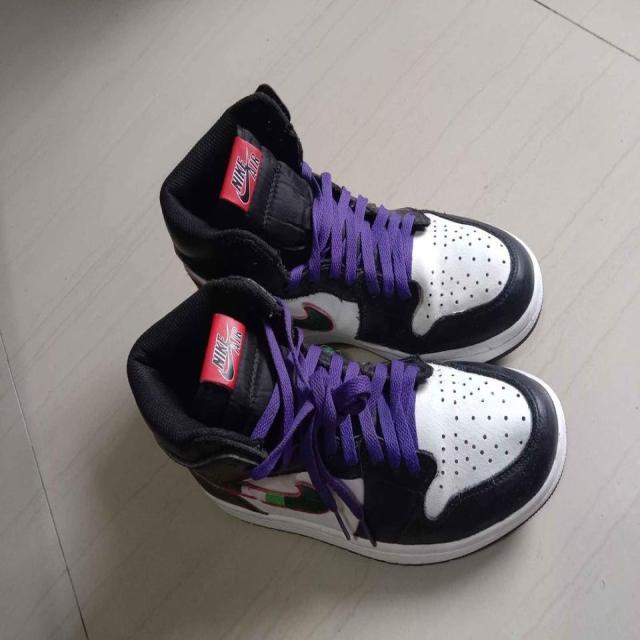nike fake jordan 1: (122, 274, 570, 570), (143, 85, 544, 377)
